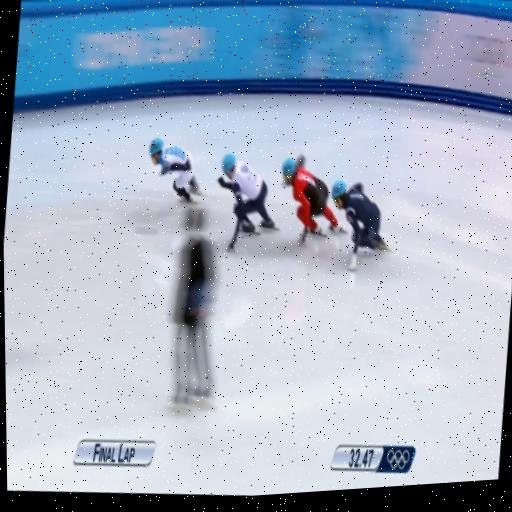Skater: (218, 154, 276, 251), (282, 156, 343, 243), (332, 180, 389, 271), (149, 138, 200, 202)
